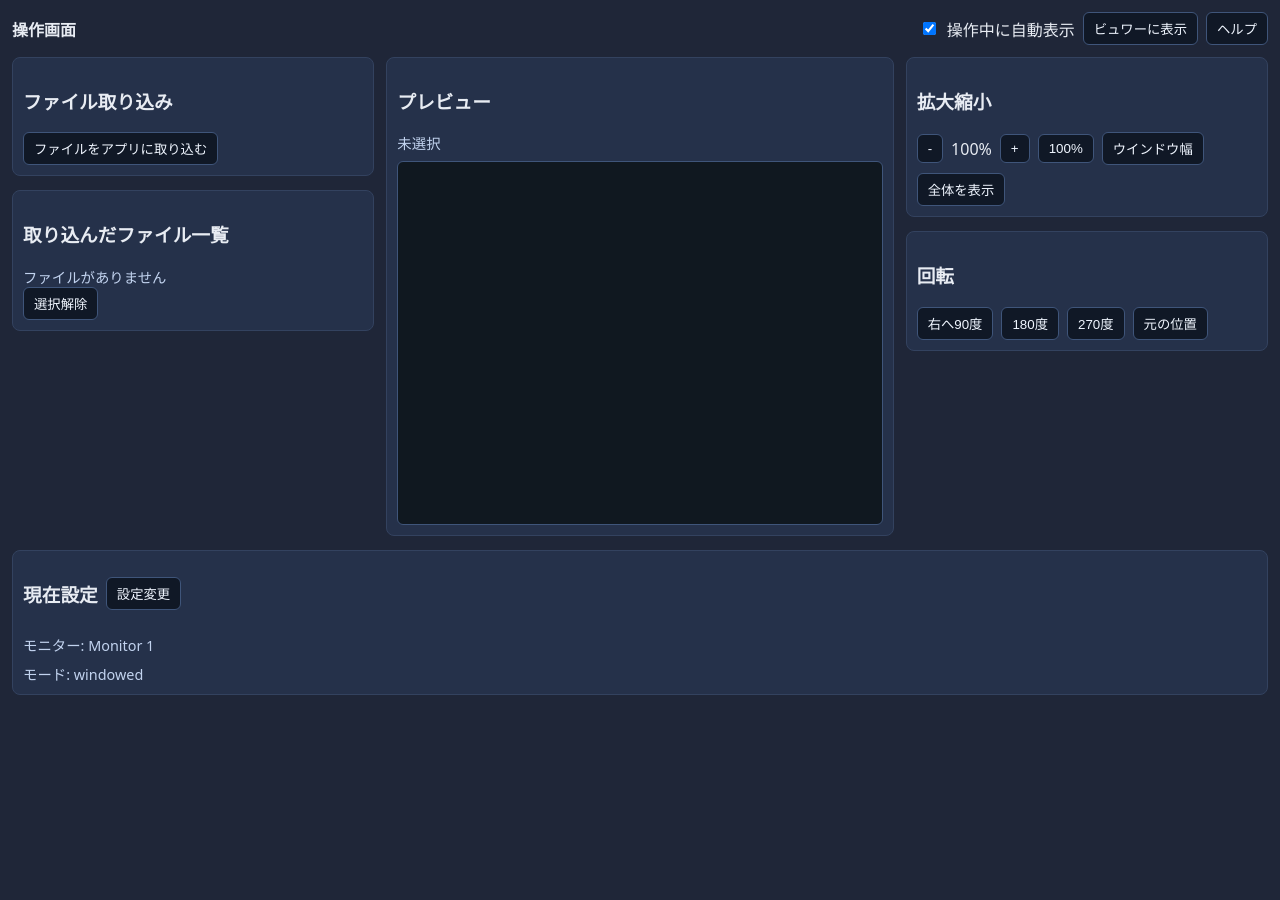
Test: ControlPanel › ヘルプボタンでショートカット一覧を表示する
expect the text "キーボードショートカット" is not shown: met
Click the button "ヘルプ": click(1237, 28) [1206, 12, 1268, 45]
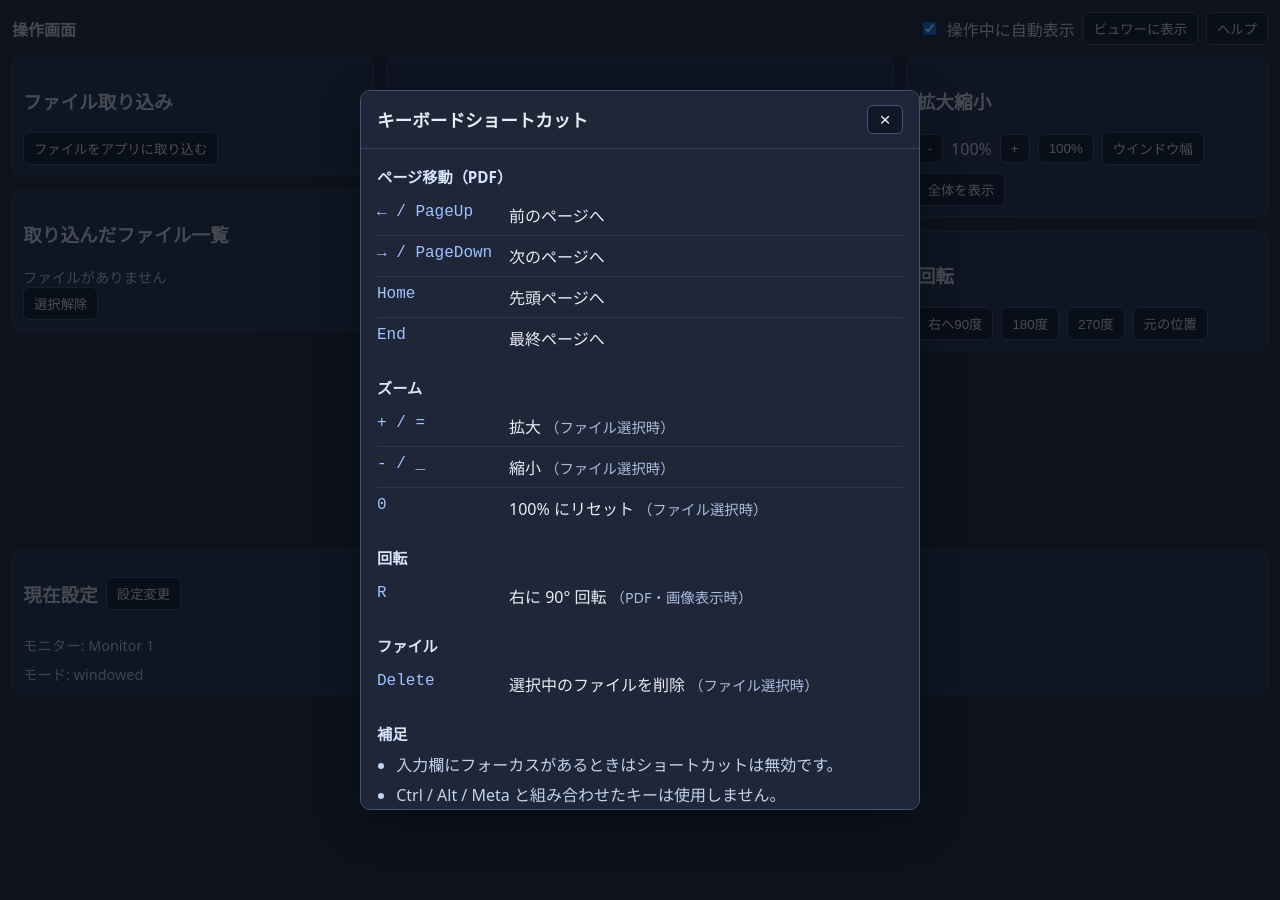
expect the dialog is shown: met, box [360, 90, 920, 810]
expect the heading "キーボードショートカット" is shown: met, box [377, 107, 588, 132]
expect the heading "ページ移動（PDF）" is shown: met, box [377, 167, 512, 187]
